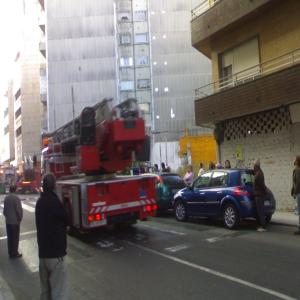Vehicle-registration-plate: (174, 189, 183, 196), (266, 201, 271, 207)
